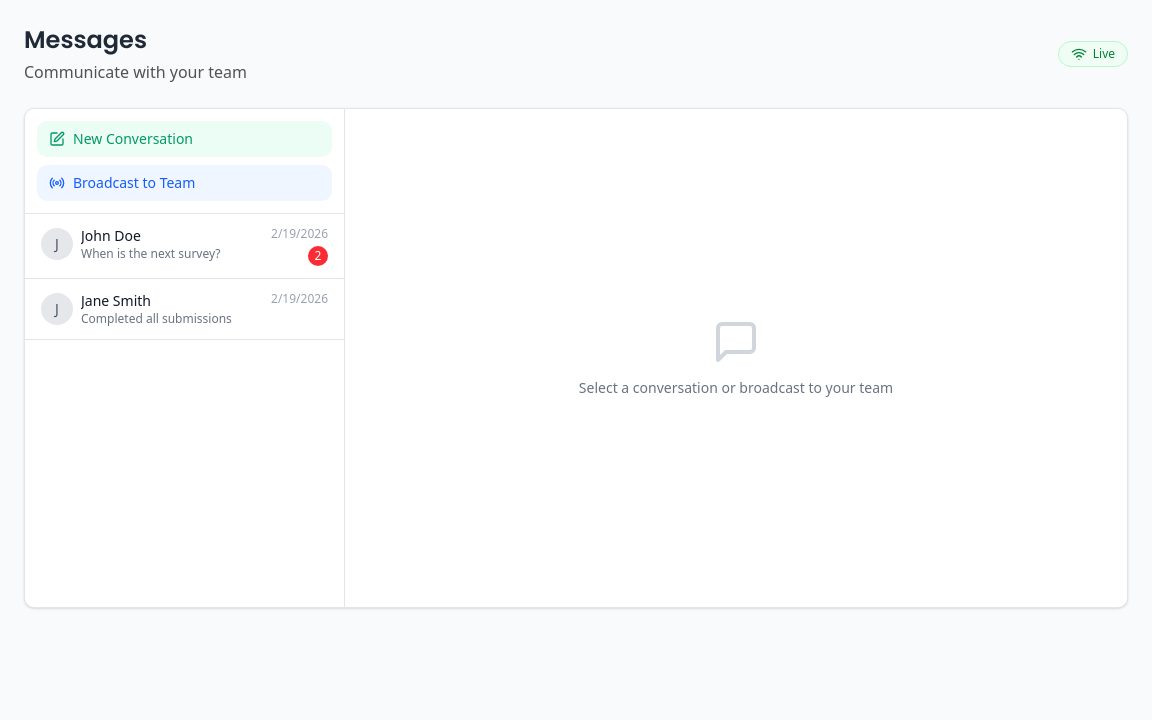
Test: SupervisorMessagesPage › new conversation (AC #1-#5) › closing roster picker returns to inbox
Click the button "New Conversation": (184,139) x1=37 y1=121 x2=332 y2=157
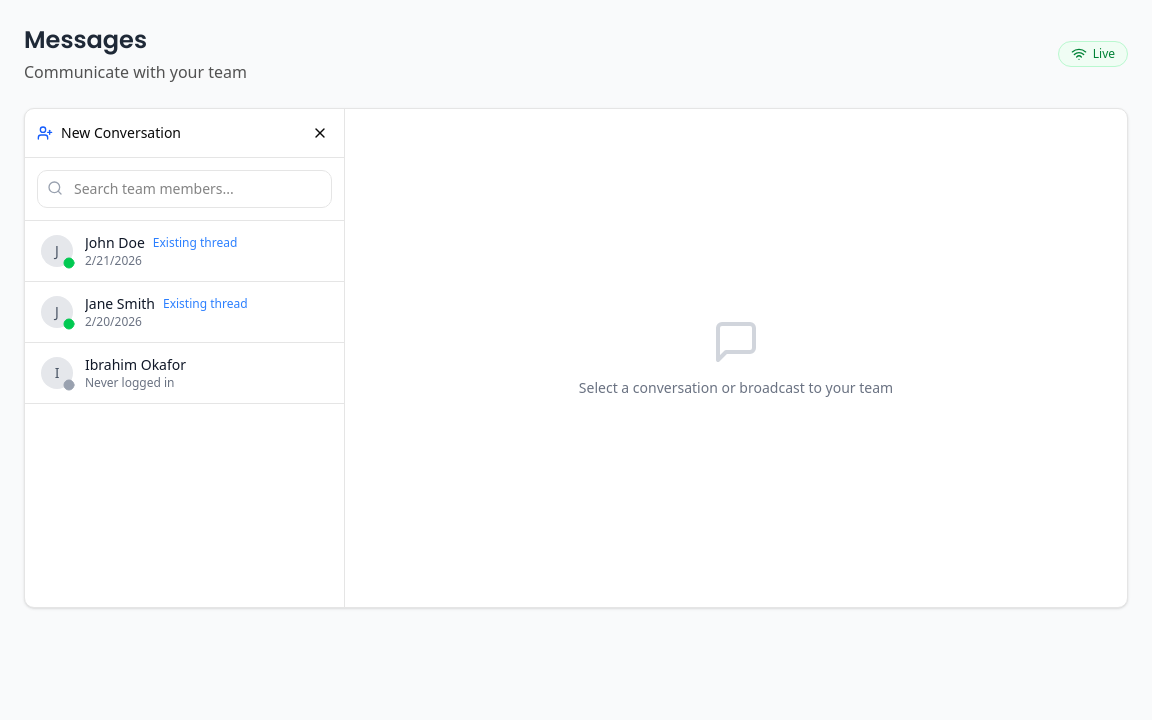
expect the list named "Team members" is shown: met, box x1=25 y1=221 x2=344 y2=404
Click the button named "Close roster picker": (320,133) x1=308 y1=121 x2=332 y2=145
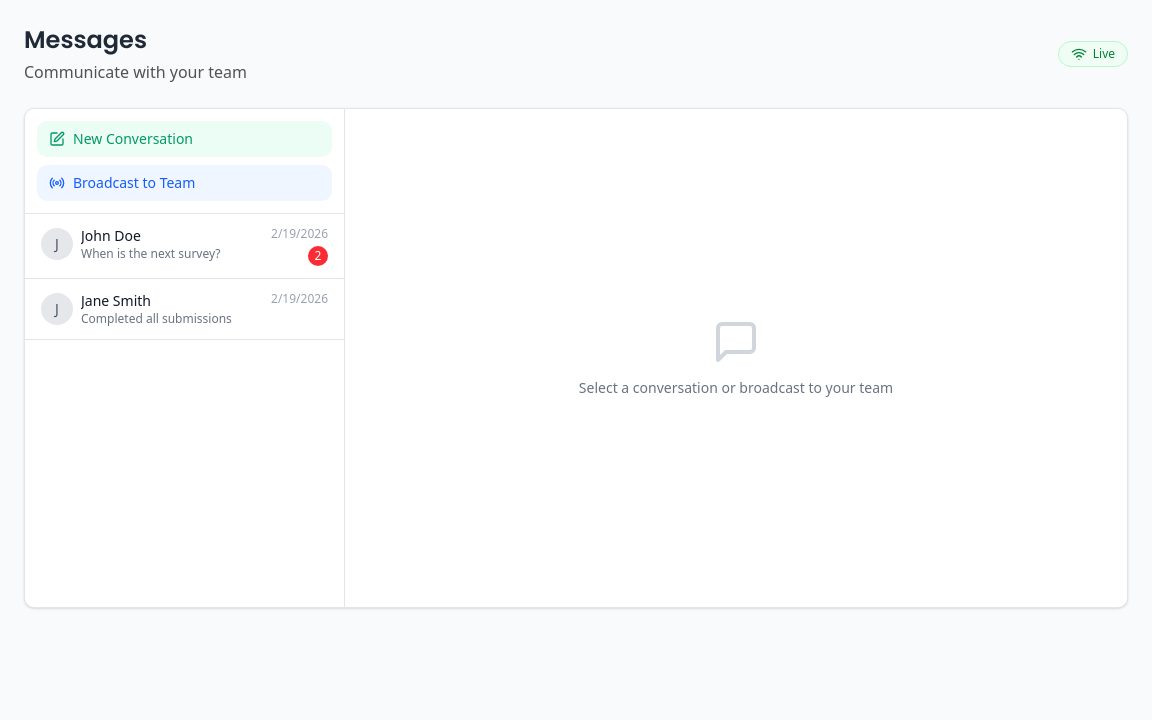
expect the field labelled "Team members" is not shown: met
expect the list named "Message threads" is shown: met, box x1=25 y1=214 x2=344 y2=340
